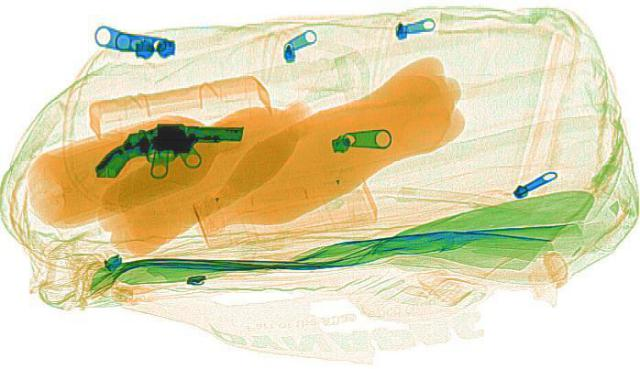Gun: (95, 117, 245, 184)
